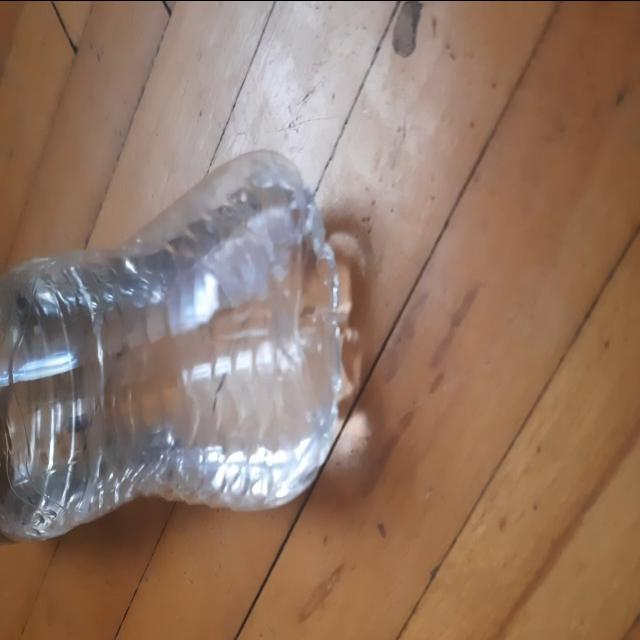Plastic: (0, 148, 360, 544)
